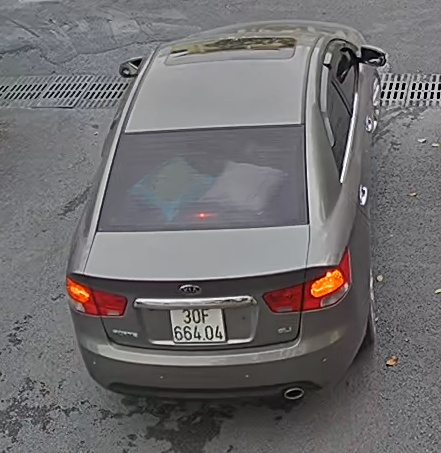vehicle plate: (161, 302, 230, 346)
